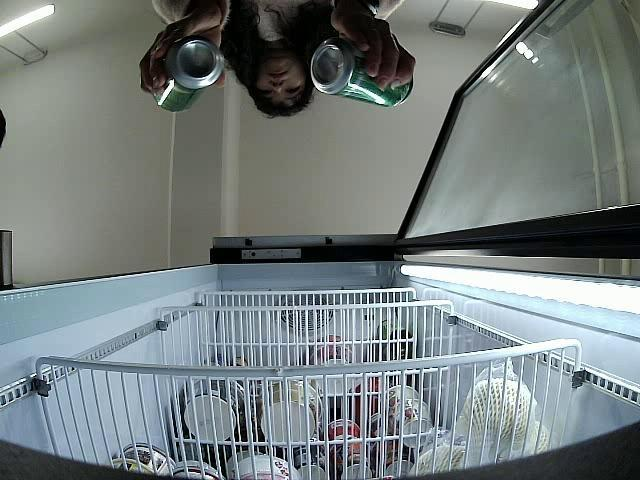12_chilsungCider: (312, 38, 414, 110), (154, 38, 224, 113)
